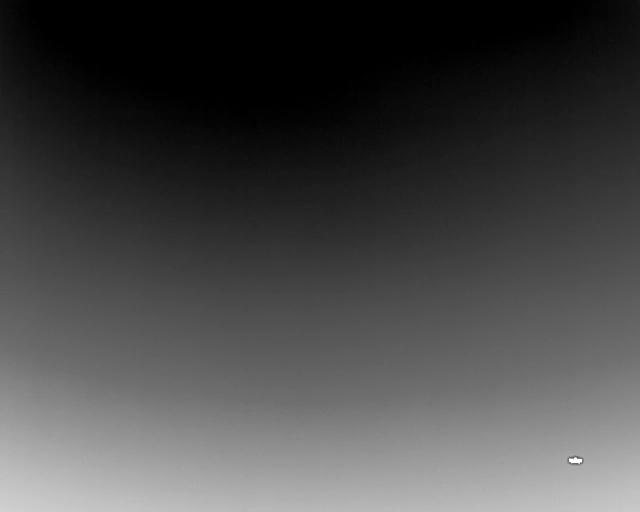fpv-drone: (567, 456, 583, 465)
